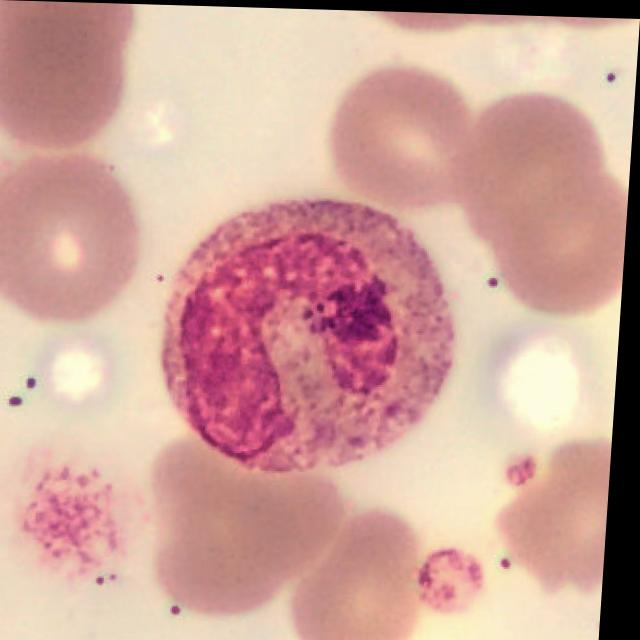Bastonete: (165, 197, 461, 473)
